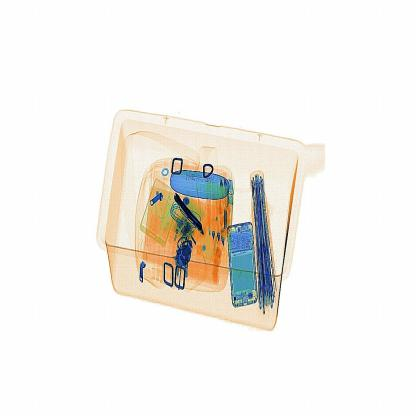knife: (176, 196, 205, 239)
